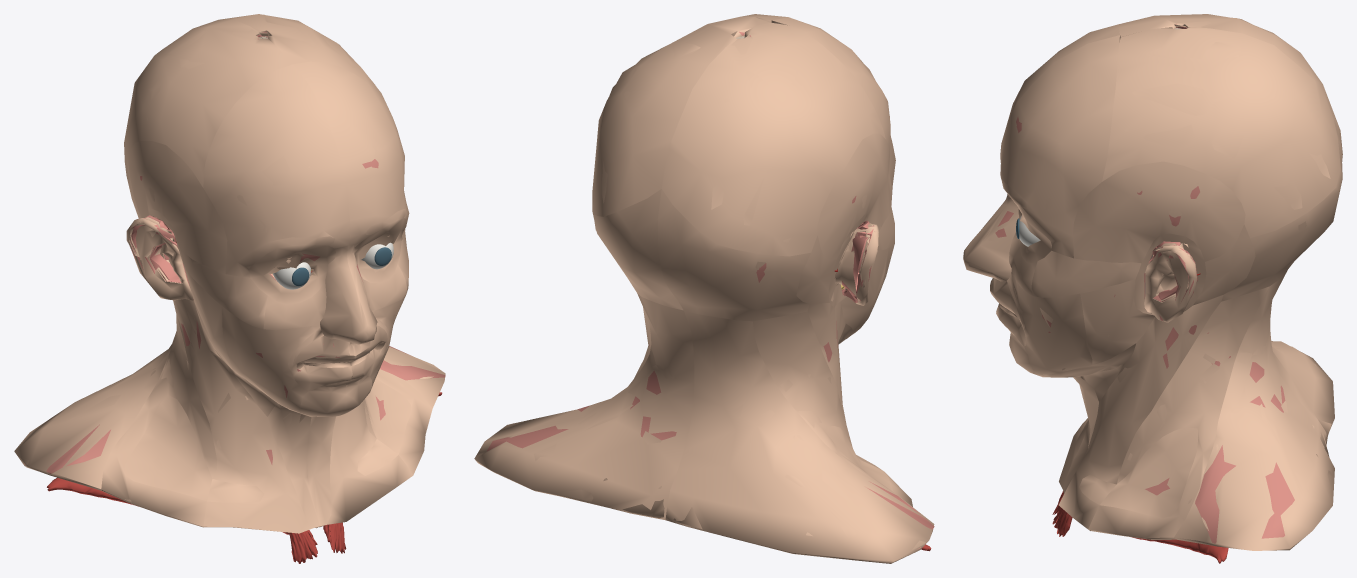
The picture shows the model from 3 angles, left to right: view 1: azimuth 30°, elevation 25°; view 2: azimuth 150°, elevation 25°; view 3: azimuth 270°, elevation 25°; orthographic projection. The views are drawn at different scales.
Visible parts, largest first — view 1: skin_epidermis, skin_dermis, sternocleidomastoid_muscle_r, platysma_r; view 2: skin_epidermis, skin_dermis; view 3: skin_epidermis, skin_dermis, platysma_l.
Boxes of the visible parts, x1=… form: skin_epidermis: x1=14, y1=14, x2=445, y2=533; skin_dermis: x1=24, y1=31, x2=445, y2=473; sternocleidomastoid_muscle_r: x1=289, y1=530, x2=317, y2=563; platysma_r: x1=47, y1=477, x2=290, y2=534; skin_epidermis: x1=474, y1=14, x2=934, y2=563; skin_dermis: x1=487, y1=31, x2=934, y2=549; skin_epidermis: x1=963, y1=14, x2=1342, y2=550; skin_dermis: x1=995, y1=24, x2=1294, y2=543; platysma_l: x1=1132, y1=537, x2=1228, y2=563.
Bounding box in the file's own units: 0.2938 × 0.3293 × 0.2269.
